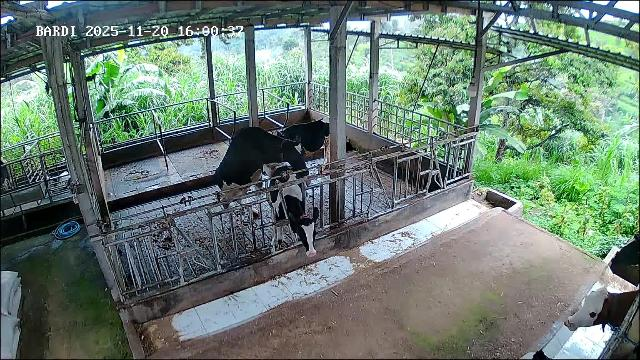mounting: (214, 126, 308, 237)
